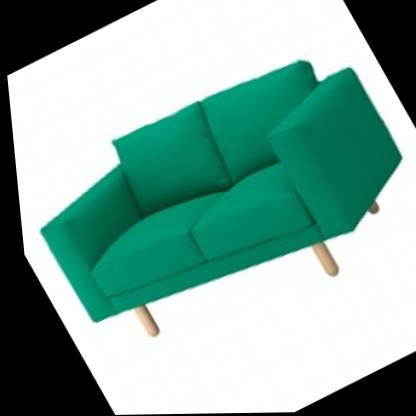Sofa: (1, 12, 416, 396)
